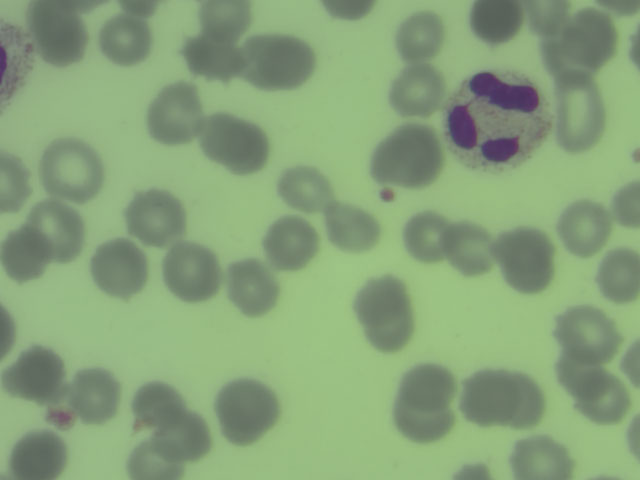Platelets: (46, 408, 78, 434), (371, 183, 400, 207)
RBC: (25, 1, 95, 64), (557, 68, 604, 151), (376, 124, 439, 183), (44, 140, 104, 196), (387, 62, 446, 118), (499, 224, 552, 284), (245, 36, 308, 86), (208, 116, 267, 168), (510, 433, 575, 480), (1, 225, 53, 283), (396, 395, 454, 445), (10, 429, 64, 480), (265, 216, 319, 266), (562, 10, 616, 60), (393, 13, 447, 63), (220, 384, 274, 434), (156, 411, 210, 461), (130, 378, 184, 428), (66, 369, 120, 419), (3, 349, 57, 399), (164, 247, 218, 297), (90, 244, 144, 294), (128, 191, 182, 241), (32, 203, 86, 253), (148, 88, 202, 138), (184, 32, 238, 82), (98, 15, 152, 65), (401, 359, 455, 409), (361, 300, 415, 350), (355, 269, 409, 319), (398, 209, 452, 259), (447, 224, 501, 274), (560, 203, 614, 253), (278, 163, 332, 213), (225, 265, 279, 315), (577, 373, 631, 423), (553, 348, 607, 398), (560, 303, 614, 353), (495, 373, 549, 423), (460, 370, 514, 420), (325, 203, 379, 253), (467, 1, 521, 50), (592, 248, 640, 301), (1, 147, 38, 215), (124, 439, 178, 480), (196, 1, 248, 36), (605, 180, 640, 227), (521, 1, 570, 34), (320, 1, 376, 24)
WBC: (443, 71, 546, 168), (1, 20, 37, 107)
